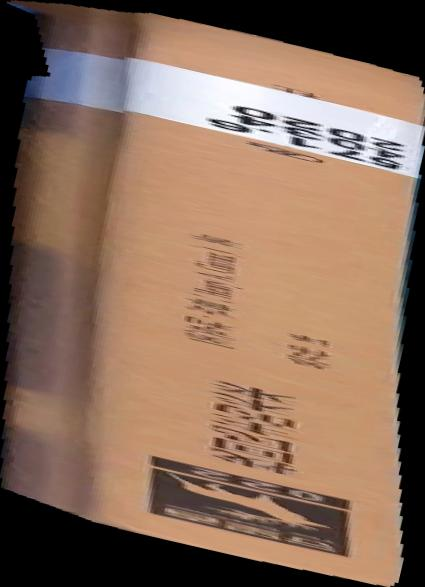reverse: (1, 1, 425, 587)
